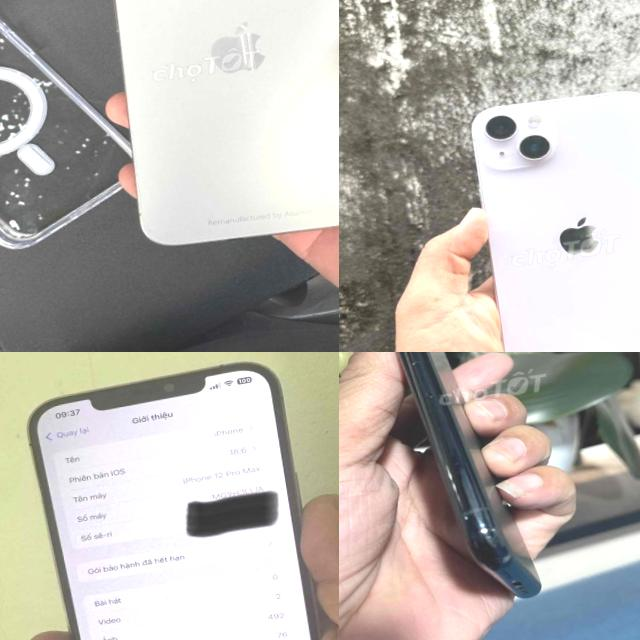gen_11: (396, 352, 539, 598)
gen_12_13: (21, 352, 339, 640)
gen_14: (451, 75, 640, 352)
gen_15: (89, 0, 339, 278)
